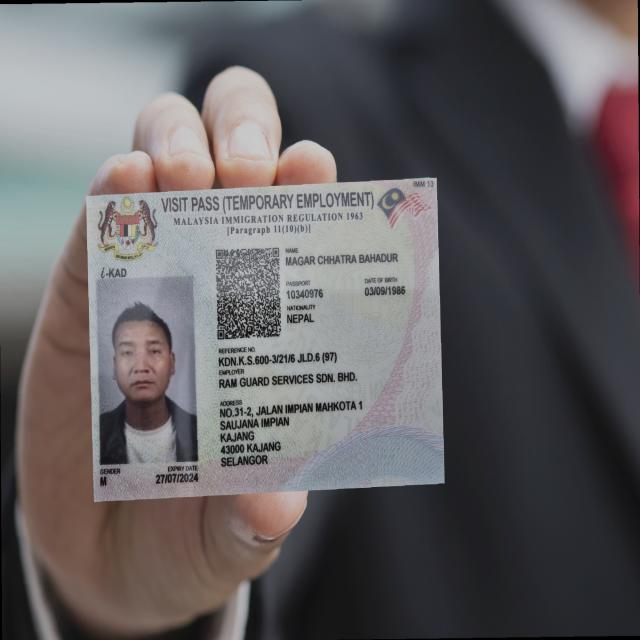ikad-temp: (85, 177, 445, 501)
